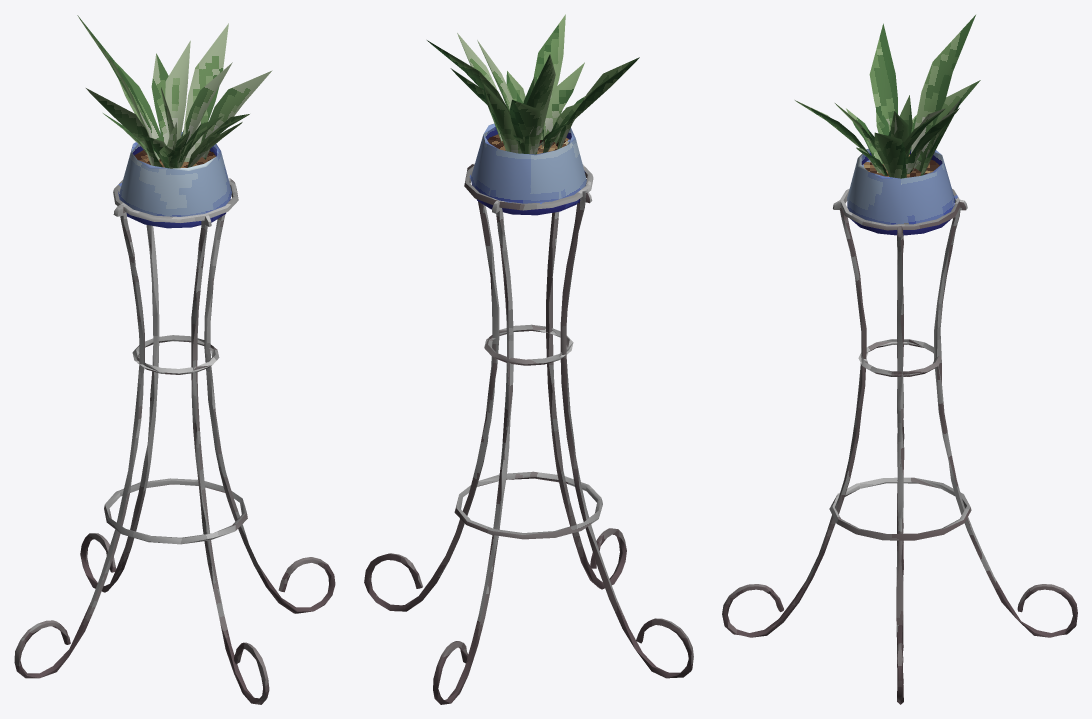
File: pot_small2.glb
3 views of the same model, side by side, from view 1: azimuth 30°, elevation 25°; view 2: azimuth 150°, elevation 25°; view 3: azimuth 270°, elevation 25° (orthographic). The views are drawn at different scales.
Visible parts, largest first — view 1: mesh; view 2: mesh; view 3: mesh.
Part boxes in pixels (x1,y1,x2,y2): mesh: [14, 15, 335, 704]; mesh: [364, 14, 693, 704]; mesh: [722, 15, 1077, 704].
Size of the model in its own units: 0.1082 by 0.2 by 0.1083.
Materials: 1 (1 with a texture image).
